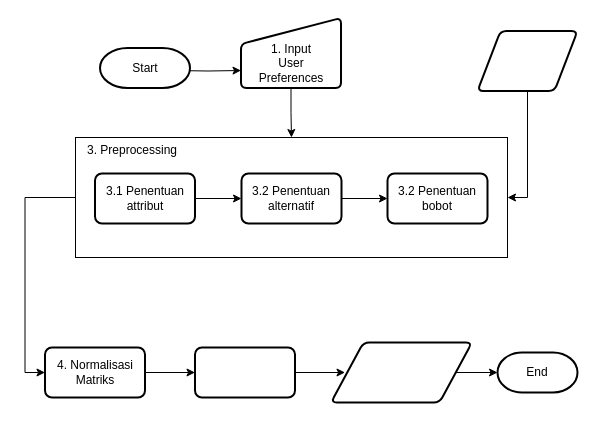
Image size: 595x421. Some labels were removed from this diagram. Each missing label, with the centre of its shape:
2. Hotel Dataset: [527,61]
5. Sorting hasil normalisasi: [245,372]
6. Recommendation: [401,372]
